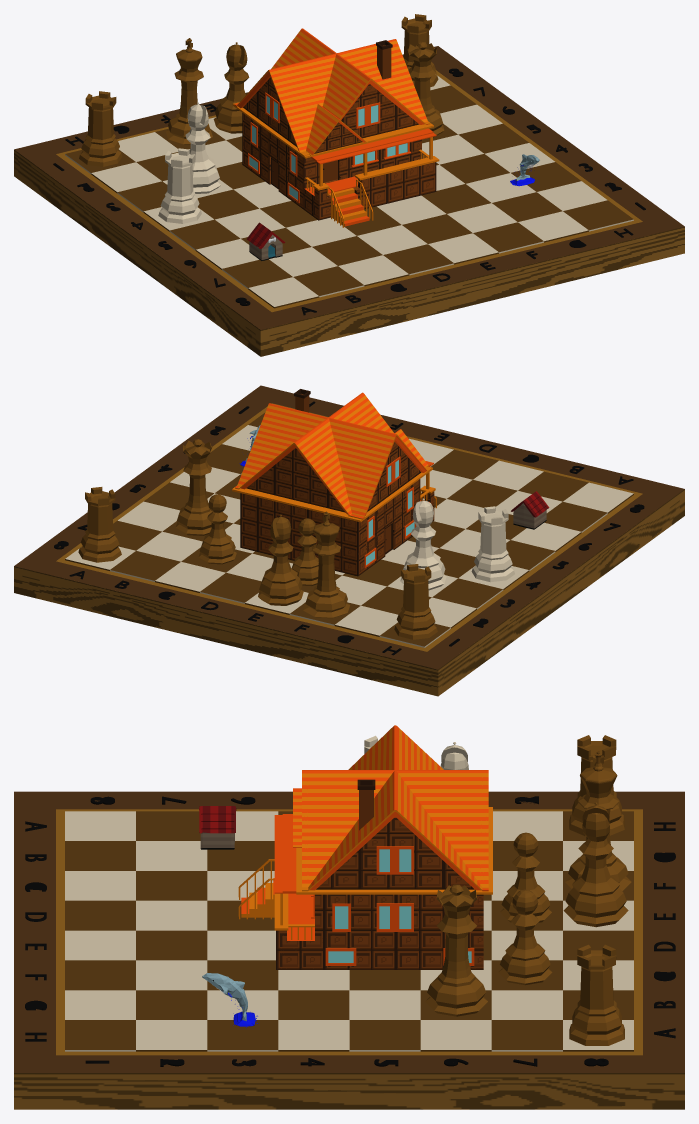
The picture shows the model from 3 angles, top to bottom: view 1: azimuth 30°, elevation 25°; view 2: azimuth 150°, elevation 25°; view 3: azimuth 270°, elevation 25°; orthographic projection. The views are drawn at different scales.
Parts seen in each view (by area): view 1: Cube.002, Cube, OBJRANDOM_DOGHOUSE; view 2: Cube.002, Cube, OBJRANDOM_DOGHOUSE; view 3: Cube.002, Cube, OBJRANDOM_DOGHOUSE, ANIMAL_DELFIN.
Part boxes in pixels (left/top/right/bottom): Cube.002: left=14, top=14, right=684, bottom=356; Cube: left=232, top=28, right=439, bottom=227; OBJRANDOM_DOGHOUSE: left=247, top=222, right=285, bottom=260; Cube.002: left=14, top=385, right=684, bottom=696; Cube: left=232, top=389, right=436, bottom=576; OBJRANDOM_DOGHOUSE: left=511, top=491, right=549, bottom=529; Cube.002: left=14, top=735, right=684, bottom=1109; Cube: left=238, top=725, right=492, bottom=969; OBJRANDOM_DOGHOUSE: left=199, top=806, right=236, bottom=849; ANIMAL_DELFIN: left=202, top=973, right=257, bottom=1027.
Size of the model in its own units: 3981 by 1488 by 4012.
27 materials, 3 textured.
